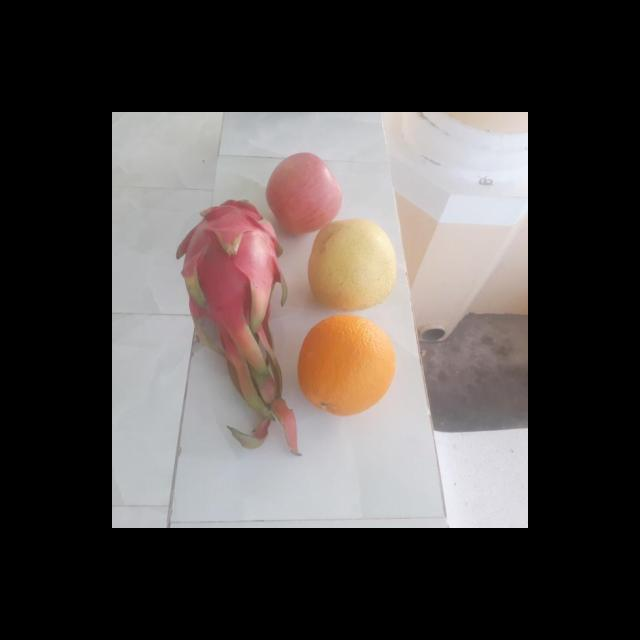apple: (261, 150, 344, 234)
orange: (294, 316, 396, 414)
pear: (302, 220, 401, 310)
pitaya: (172, 199, 285, 340)
